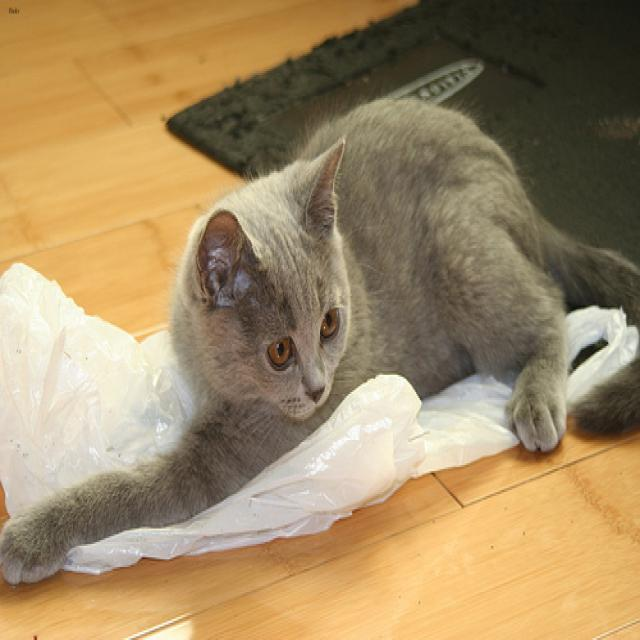British_Shorthair: (175, 143, 355, 435)
